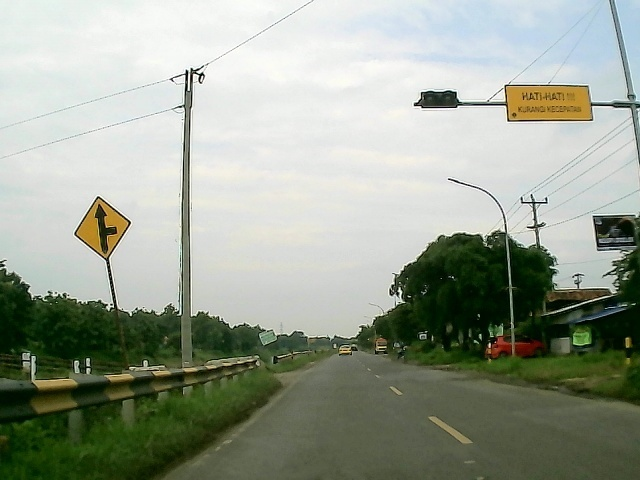Simpang kanan dengan prioritas: (71, 194, 135, 263)
